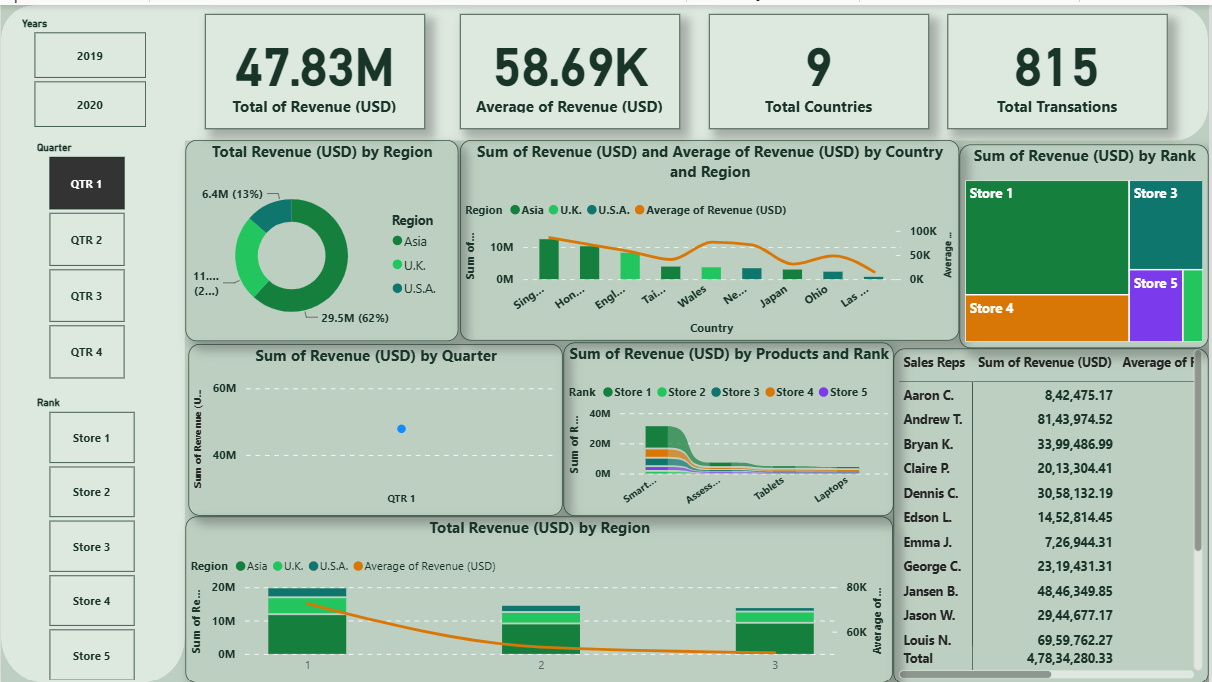

The dashboard page shown, as its layout file describes it:
{"tool":"powerbi","page":{"name":"Page 1","canvas":[1280,720],"ordinal":0},"visuals":[{"type":"shape","box":[0,0,195,720],"z":0},{"type":"shape","box":[0,0,1280,144],"z":1000},{"type":"card","fields":{"Values":["Sum(Sheet1.Revenue (USD))"]},"box":[216,9,233,122],"z":2000},{"type":"card","fields":{"Values":["Avg(Sheet1.Revenue (USD))"]},"box":[486,9,233,122],"z":3000},{"type":"card","fields":{"Values":["Count(Sheet1.Country)"]},"box":[750,9,233,122],"z":4000},{"type":"card","fields":{"Values":["CountNonNull(Sheet1.First Name)"]},"box":[1004,9,233,122],"z":5000},{"type":"slicer","fields":{"Values":["Sheet1.Years"]},"box":[15,11.7,158.3,121.7],"z":6000},{"type":"slicer","fields":{"Values":["Sheet1.Quarter"]},"box":[30.6,143.5,119.4,256.5],"z":7000},{"type":"slicer","fields":{"Values":["Sheet1.Rank"]},"box":[30,413.3,130,306.7],"z":8000},{"type":"donutChart","title":"Total Revenue (USD) by Region","fields":{"Category":["Sheet1.Region"],"Y":["Sum(Sheet1.Revenue (USD))"]},"box":[195,143.3,289,213.3],"z":9000},{"type":"lineStackedColumnComboChart","title":"Sum of Revenue (USD) and Average of Revenue (USD) by Country and Region","fields":{"Category":["Sheet1.Country"],"Series":["Sheet1.Region"],"Y":["Sum(Sheet1.Revenue (USD))"],"Y2":["Avg(Sheet1.Revenue (USD))"]},"box":[487.1,143.5,529,212.9],"z":10000},{"type":"treemap","title":"Sum of Revenue (USD) by Rank","fields":{"Group":["Sheet1.Rank"],"Values":["Sum(Sheet1.Revenue (USD))"]},"box":[1015.7,147.1,264.3,215.7],"z":11000},{"type":"areaChart","title":"Sum of Revenue (USD) by Quarter","fields":{"Category":["Sheet1.Quarter"],"Y":["Sum(Sheet1.Revenue (USD))"]},"box":[198.4,359.7,396.8,182.3],"z":12000},{"type":"lineStackedColumnComboChart","title":"Total Revenue (USD) by Region","fields":{"Category":["Sheet1.Month"],"Series":["Sheet1.Region"],"Y":["Sum(Sheet1.Revenue (USD))"],"Y2":["Avg(Sheet1.Revenue (USD))"]},"box":[195,541.7,750,177],"z":13000},{"type":"ribbonChart","title":"Sum of Revenue (USD) by Products and Rank","fields":{"Category":["Sheet1.Products"],"Series":["Sheet1.Rank"],"Y":["Sum(Sheet1.Revenue (USD))"]},"box":[595.7,358.6,350,184.3],"z":14000},{"type":"pivotTable","title":"Total Revenue (USD) by Region","fields":{"Rows":["Sheet1.Sales Reps"],"Values":["Sum(Sheet1.Revenue (USD))","Avg(Sheet1.Revenue (USD))","CountNonNull(Sheet1.First Name)"]},"box":[946,364,333.9,356.5],"z":15000}]}

Visuals, with their boxes in screenshot pixels (x1, y1, x2, y2), scaled from the page's 1280x720 canvas onto the 1212x682 screenshot:
shape: 0/0/185/681
shape: 0/0/1211/136
card - Sum(Sheet1.Revenue (USD)): 205/9/425/124
card - Avg(Sheet1.Revenue (USD)): 460/9/681/124
card - Count(Sheet1.Country): 710/9/931/124
card - CountNonNull(Sheet1.First Name): 951/9/1171/124
slicer - Sheet1.Years: 14/11/164/126
slicer - Sheet1.Quarter: 29/136/142/379
slicer - Sheet1.Rank: 28/391/152/681
"Total Revenue (USD) by Region" donutChart: 185/136/458/338
"Sum of Revenue (USD) and Average of Revenue (USD) by Country and Region" lineStackedColumnComboChart: 461/136/962/338
"Sum of Revenue (USD) by Rank" treemap: 962/139/1211/344
"Sum of Revenue (USD) by Quarter" areaChart: 188/341/564/513
"Total Revenue (USD) by Region" lineStackedColumnComboChart: 185/513/895/681
"Sum of Revenue (USD) by Products and Rank" ribbonChart: 564/340/895/514
"Total Revenue (USD) by Region" pivotTable: 896/345/1211/681
